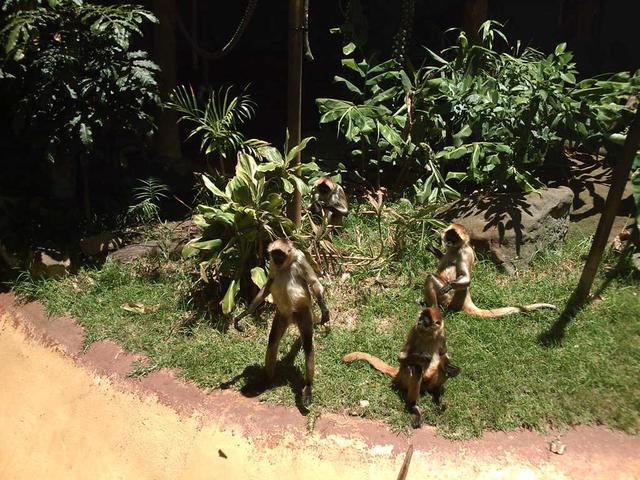monkey: (233, 216, 340, 433), (412, 211, 568, 339), (344, 308, 471, 408)
